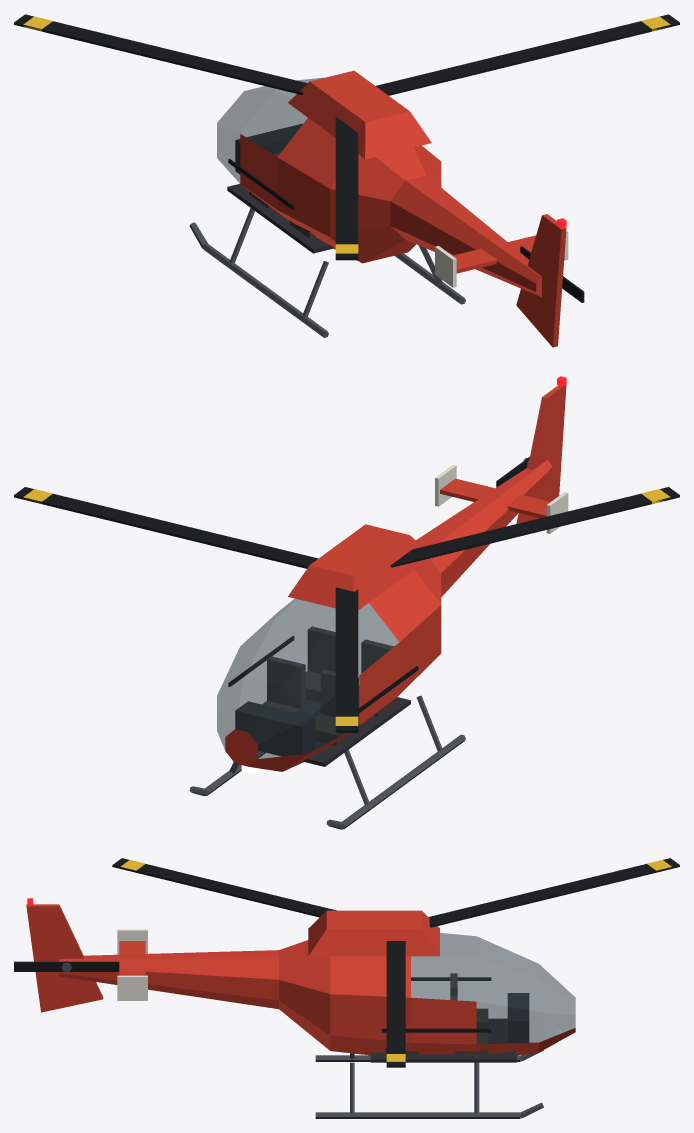
Rendered from heli.glb.
3 views of the same model, one above another, from view 1: azimuth 30°, elevation 25°; view 2: azimuth 150°, elevation 25°; view 3: azimuth 270°, elevation 25° (orthographic). The views are drawn at different scales.
Parts seen in each view (by area): view 1: heli, heli_rotor_main; view 2: heli, heli_rotor_main; view 3: heli, heli_rotor_main, heli_rotor_tail.
Part boxes in pixels (box(x1,y1,x2,y2)): heli: box(189, 70, 568, 347); heli_rotor_main: box(14, 14, 679, 260); heli: box(189, 376, 568, 829); heli_rotor_main: box(14, 487, 679, 732); heli: box(26, 898, 575, 1118); heli_rotor_main: box(112, 858, 679, 1067); heli_rotor_tail: box(14, 961, 119, 972).
Bounding box in the file's own units: 6.71 × 2.87 × 9.1.
